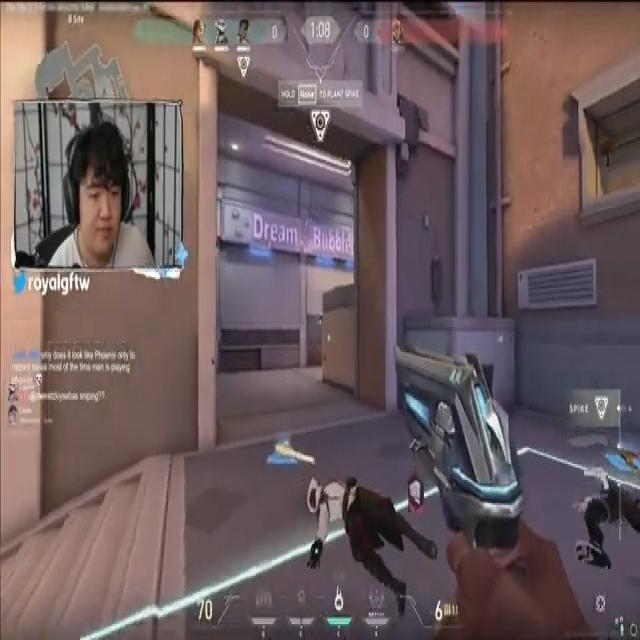gun: (270, 427, 318, 470)
